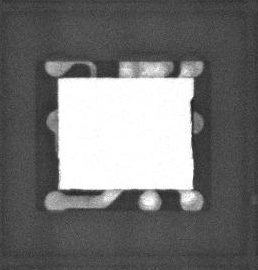DIE_BROKEN: (189, 95, 195, 159)
